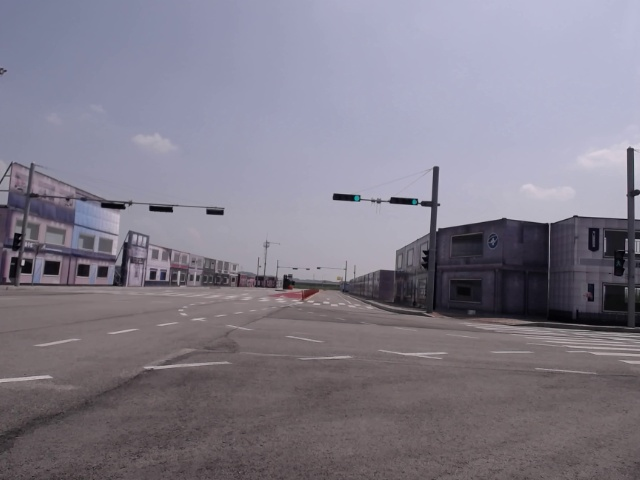straight_green_4: (388, 196, 418, 205), (334, 193, 361, 202)
